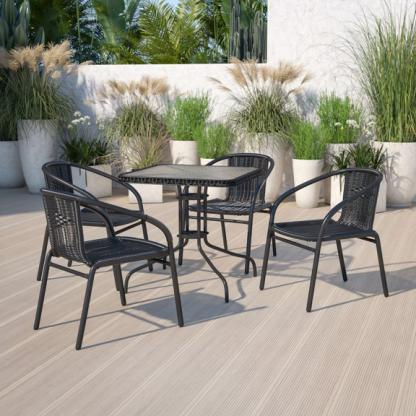table: (111, 158, 267, 310)
